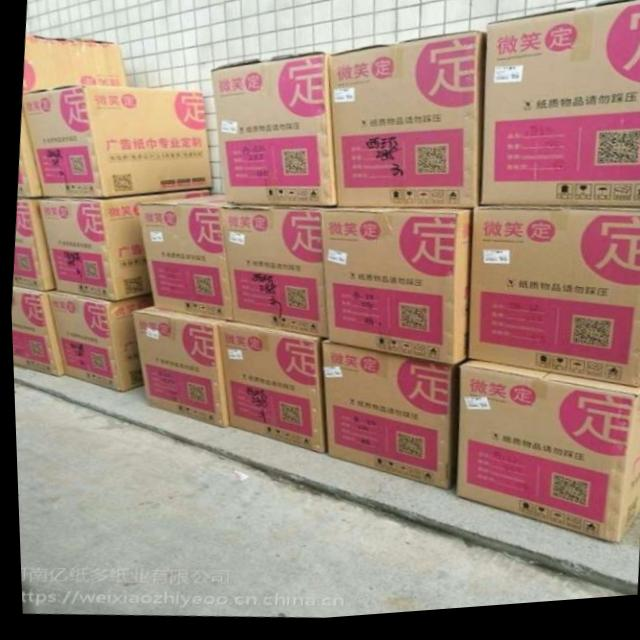box: (452, 368, 640, 553), (477, 6, 640, 217), (463, 215, 640, 396), (327, 37, 484, 215), (320, 212, 469, 373), (20, 86, 210, 199), (319, 347, 451, 498), (36, 191, 209, 303), (211, 58, 331, 209), (218, 209, 324, 343), (215, 325, 320, 459), (130, 309, 225, 431), (136, 198, 226, 323), (46, 292, 147, 393), (9, 287, 62, 376), (10, 197, 51, 293)
